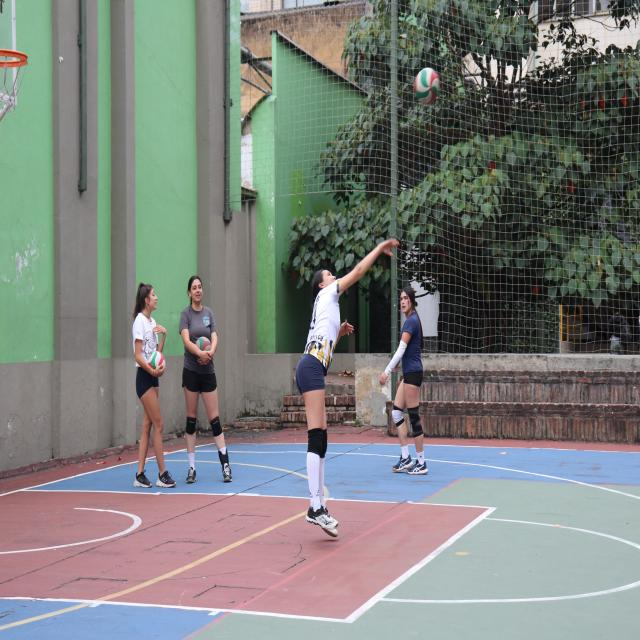volleyball: (415, 68, 439, 106), (147, 350, 166, 370), (195, 338, 212, 352)
